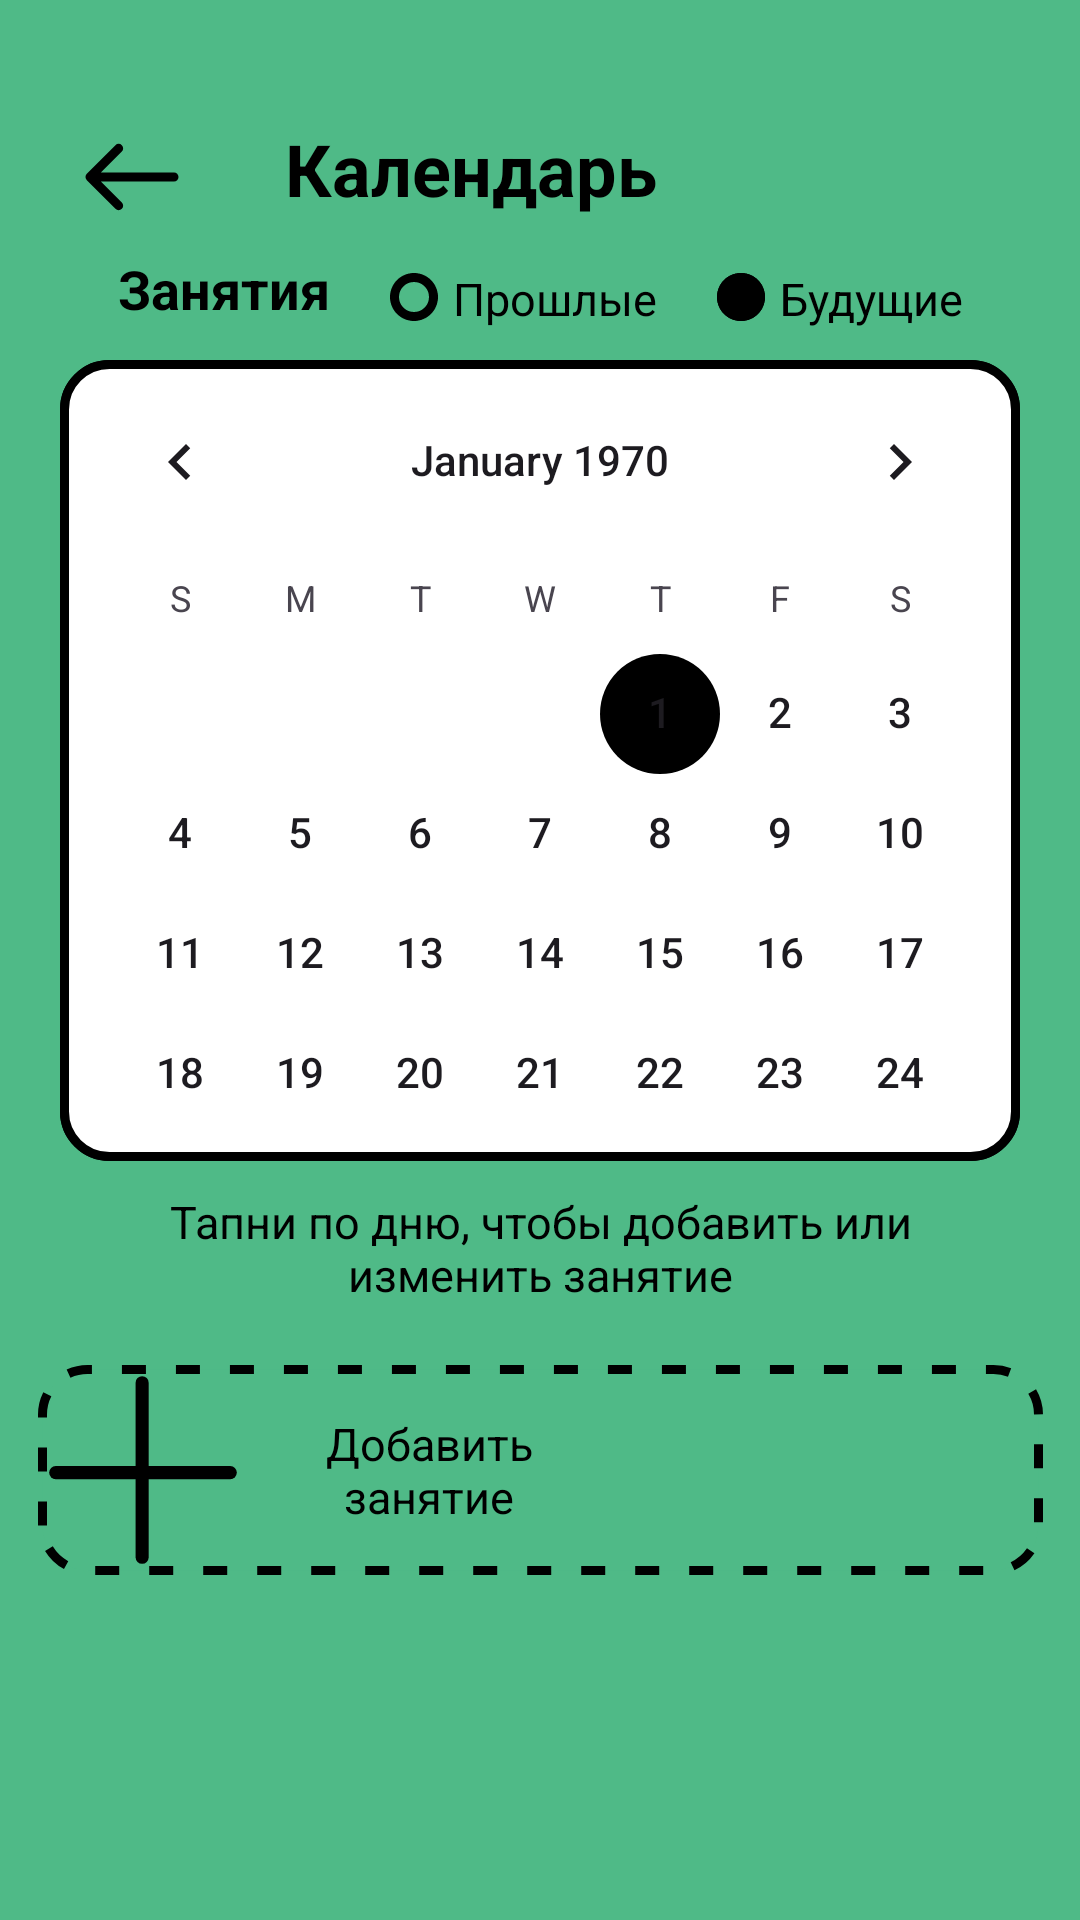

Point at icon controls on the screen. Image size 1080 x 1920, points as (x,y).
arrow: (132,177)
